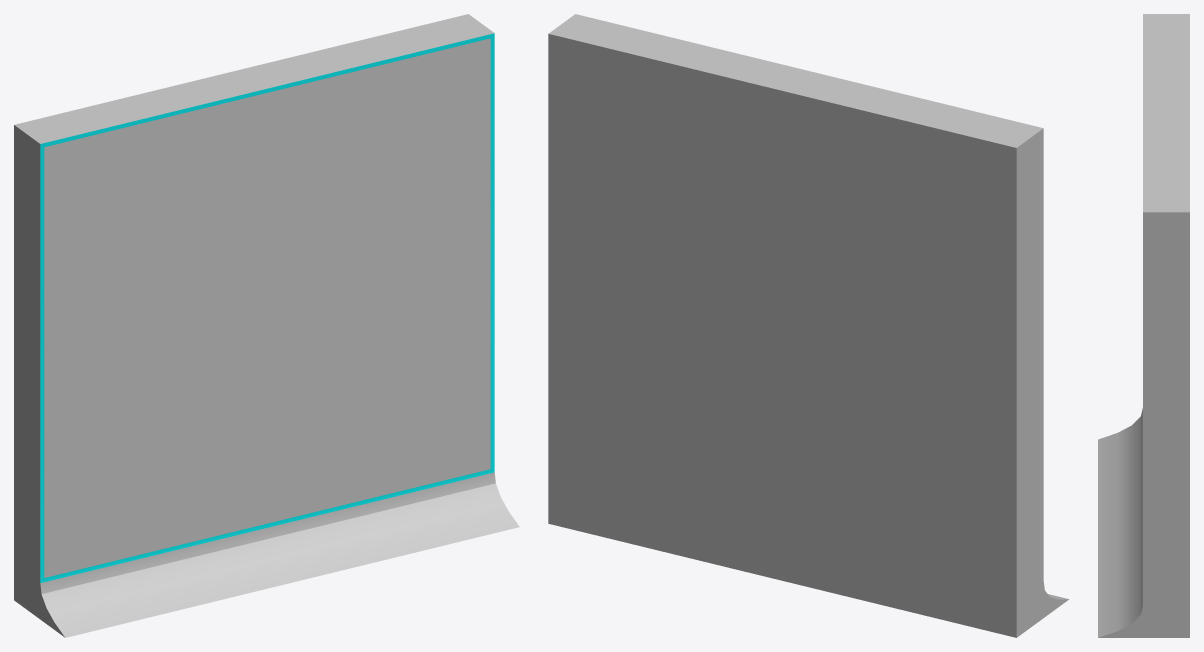
The model's file is Wall_001.fbx.
The picture shows the model from 3 angles, left to right: view 1: azimuth 30°, elevation 25°; view 2: azimuth 150°, elevation 25°; view 3: azimuth 270°, elevation 25°; orthographic projection. The views are drawn at different scales.
Parts seen in each view (by area): view 1: Wall_001; view 2: Wall_001; view 3: Wall_001.
Boxes of the visible parts, x1=… form: Wall_001: x1=14, y1=14, x2=519, y2=637; Wall_001: x1=548, y1=14, x2=1069, y2=637; Wall_001: x1=1098, y1=14, x2=1189, y2=637.
Bounding box in the file's own units: 300 × 300 × 58.74.
